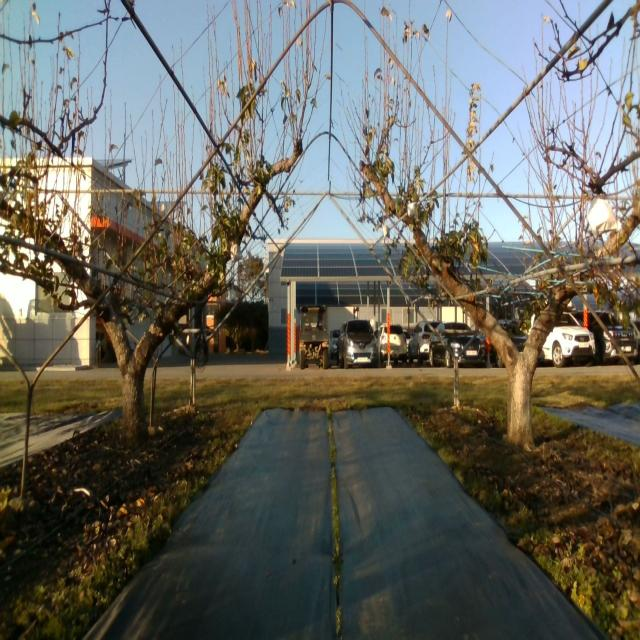pearbags: (587, 190, 618, 237), (230, 241, 243, 263)
